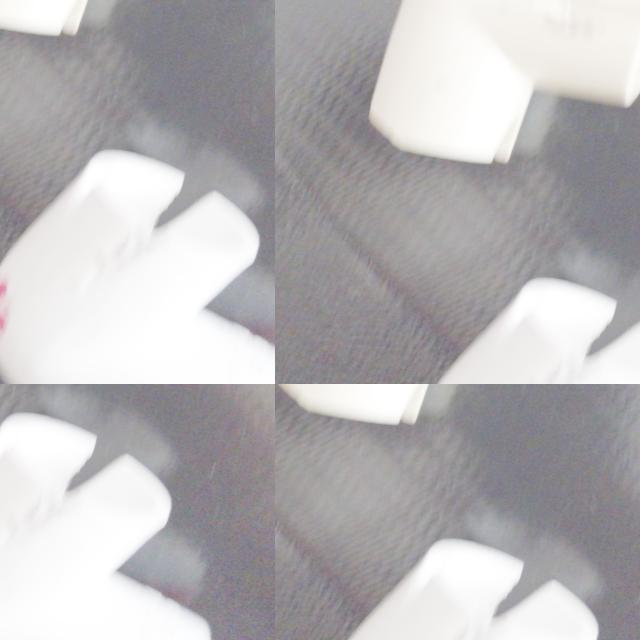Defective: (457, 564, 577, 622)
L Joint: (351, 540, 600, 640), (275, 384, 596, 434)
